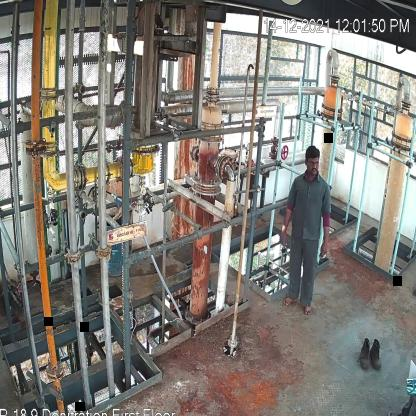no_shoes: (281, 296, 298, 306), (302, 304, 312, 318)
shoes: (358, 337, 374, 371), (371, 340, 383, 370)
